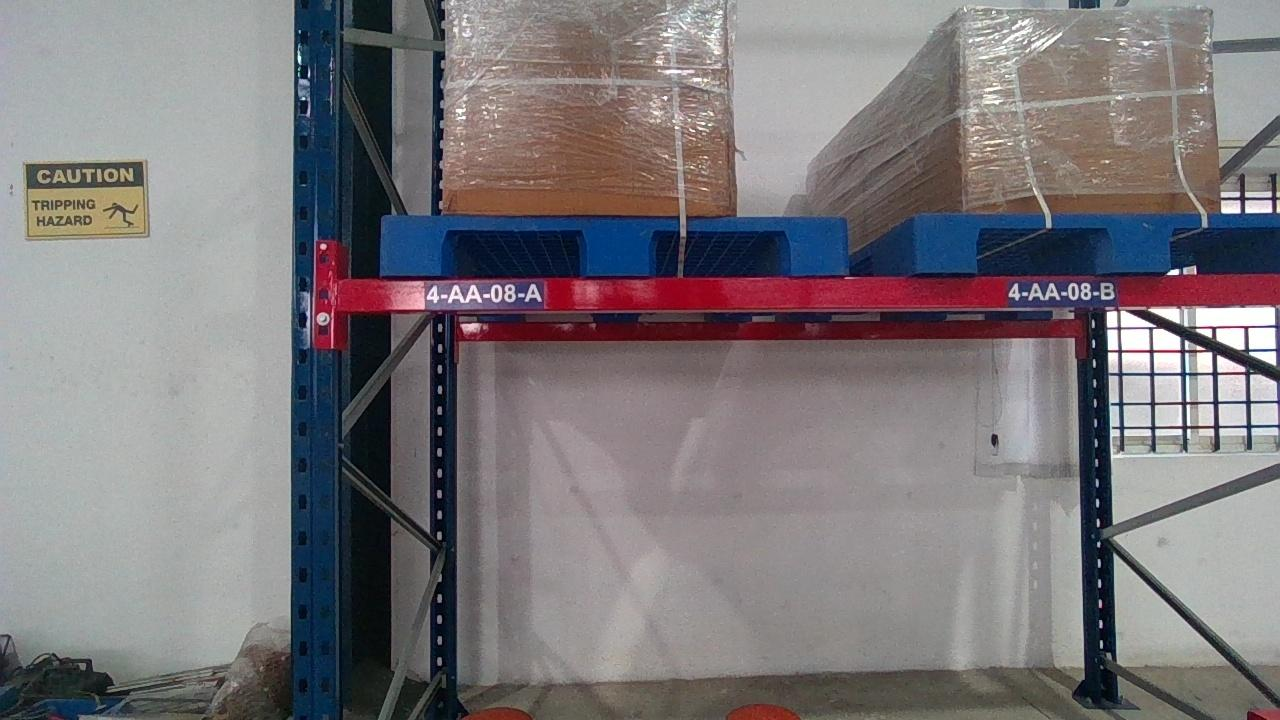h_rack: (327, 273, 1278, 311)
small_pallet: (378, 215, 848, 272), (914, 211, 1279, 270)
